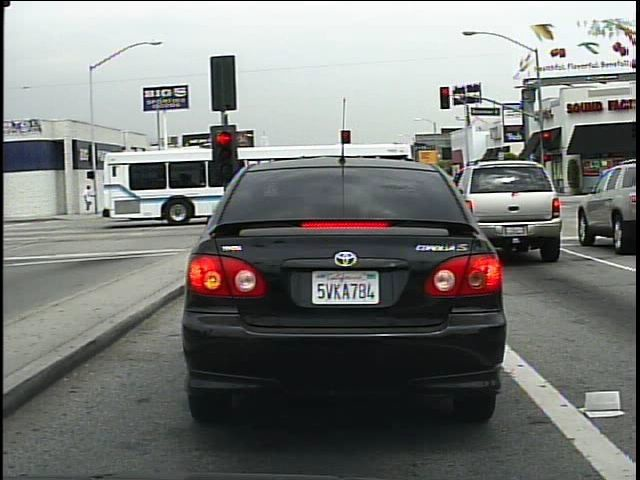person: (80, 183, 92, 215)
